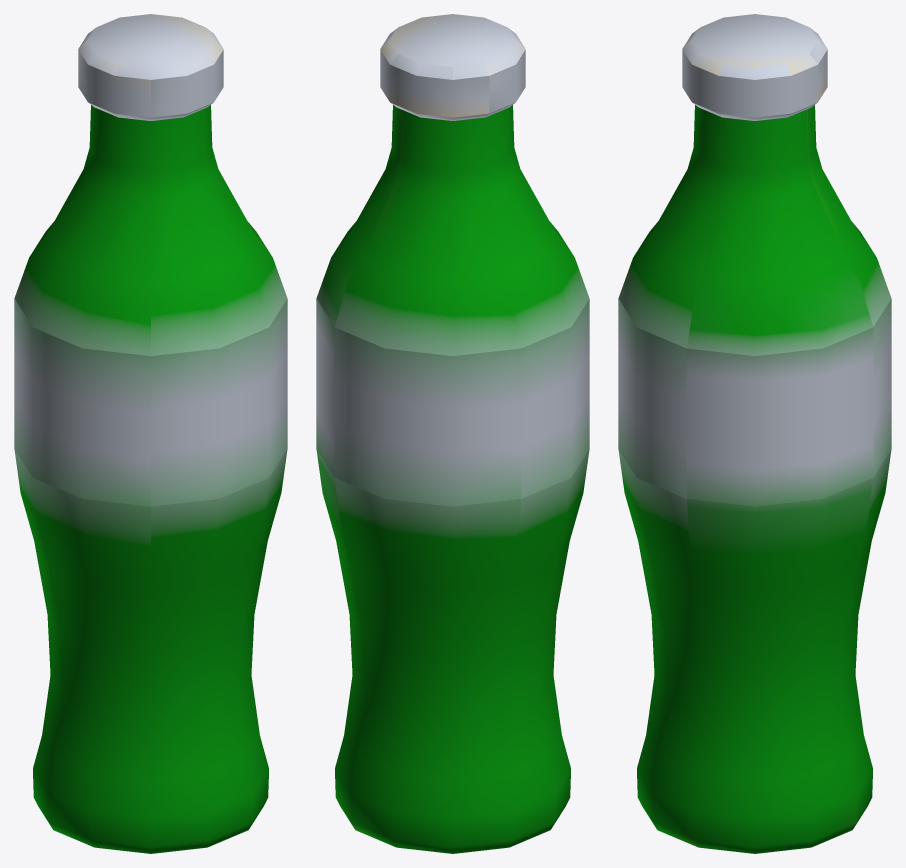
Rendered from Bottle3.fbx.
The picture shows the model from 3 angles, left to right: view 1: azimuth 30°, elevation 25°; view 2: azimuth 150°, elevation 25°; view 3: azimuth 270°, elevation 25°; orthographic projection.
Visible parts, largest first — view 1: Bottle3; view 2: Bottle3; view 3: Bottle3.
Boxes of the visible parts, bbox=[...] form: Bottle3: bbox=[14, 14, 287, 853]; Bottle3: bbox=[316, 14, 589, 853]; Bottle3: bbox=[618, 14, 891, 853].
Size of the model in its own units: 4.04 by 12.56 by 4.04.
